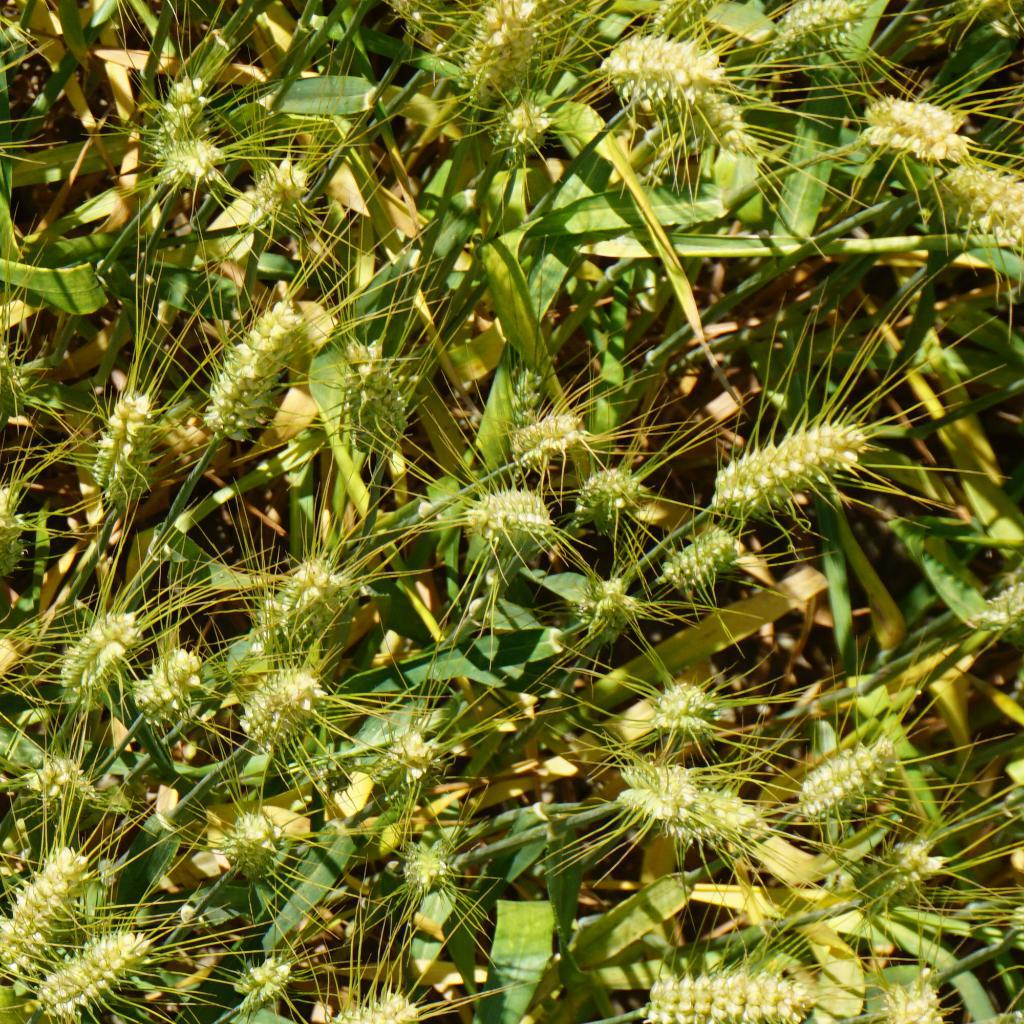0-0: (704, 415, 881, 523), (202, 313, 305, 441), (633, 57, 765, 155), (633, 953, 815, 1024), (846, 76, 970, 167), (257, 550, 358, 657), (330, 338, 421, 444), (25, 929, 145, 1008), (58, 604, 151, 705), (0, 846, 84, 954), (84, 390, 161, 505), (915, 139, 1000, 242), (459, 0, 545, 98), (600, 25, 716, 94), (764, 0, 896, 60), (797, 732, 893, 813), (846, 830, 939, 909), (659, 779, 763, 848), (570, 564, 654, 646), (367, 722, 444, 811), (238, 665, 314, 754), (153, 60, 216, 167), (608, 754, 702, 825), (18, 743, 104, 820), (131, 643, 211, 724), (663, 526, 754, 597), (472, 486, 570, 551), (248, 145, 325, 226), (212, 809, 293, 882), (497, 352, 553, 454), (500, 399, 581, 468), (393, 825, 463, 904), (649, 676, 730, 740), (297, 978, 397, 1024), (234, 951, 307, 1012), (161, 134, 228, 188), (498, 106, 555, 169), (572, 468, 635, 523), (872, 984, 941, 1024), (0, 484, 31, 572), (0, 336, 27, 421), (308, 754, 356, 800)
